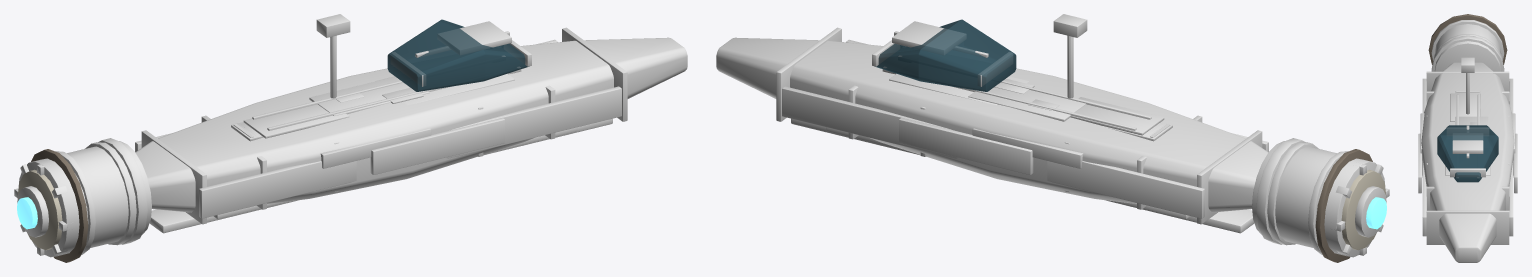
The model's file is survey_pin_production_v1_lod1.glb.
3 renders of one model, left to right at view 1: azimuth 30°, elevation 25°; view 2: azimuth 150°, elevation 25°; view 3: azimuth 270°, elevation 25°, orthographic. The views are drawn at different scales.
Parts seen in each view (by area): view 1: LOD1_Hull, LOD1_Armor, LOD1_Mechanical, LOD1_Canopy, LOD1_Ceramic, LOD1_Radiator, LOD1_Thruster; view 2: LOD1_Hull, LOD1_Armor, LOD1_Mechanical, LOD1_Canopy, LOD1_Ceramic, LOD1_Radiator, LOD1_Thruster; view 3: LOD1_Hull, LOD1_Armor, LOD1_Canopy, LOD1_Mechanical, LOD1_Radiator.
Part boxes in pixels (x1,y1,x2,y2): LOD1_Hull: (135, 27, 687, 224); LOD1_Armor: (55, 14, 531, 255); LOD1_Mechanical: (14, 35, 612, 257); LOD1_Canopy: (387, 19, 529, 91); LOD1_Ceramic: (17, 169, 62, 250); LOD1_Radiator: (31, 149, 88, 262); LOD1_Thruster: (17, 197, 37, 229); LOD1_Hull: (716, 27, 1268, 224); LOD1_Armor: (872, 14, 1348, 255); LOD1_Mechanical: (791, 35, 1389, 257); LOD1_Canopy: (874, 19, 1016, 91); LOD1_Ceramic: (1341, 169, 1386, 250); LOD1_Radiator: (1315, 149, 1372, 262); LOD1_Thruster: (1366, 197, 1386, 229); LOD1_Hull: (1421, 62, 1514, 262); LOD1_Armor: (1418, 20, 1517, 193); LOD1_Canopy: (1437, 125, 1498, 182); LOD1_Mechanical: (1434, 24, 1501, 177); LOD1_Radiator: (1428, 14, 1507, 64).
Size of what is drawn, in the model's own units: 11.98 by 2.99 by 2.33.
